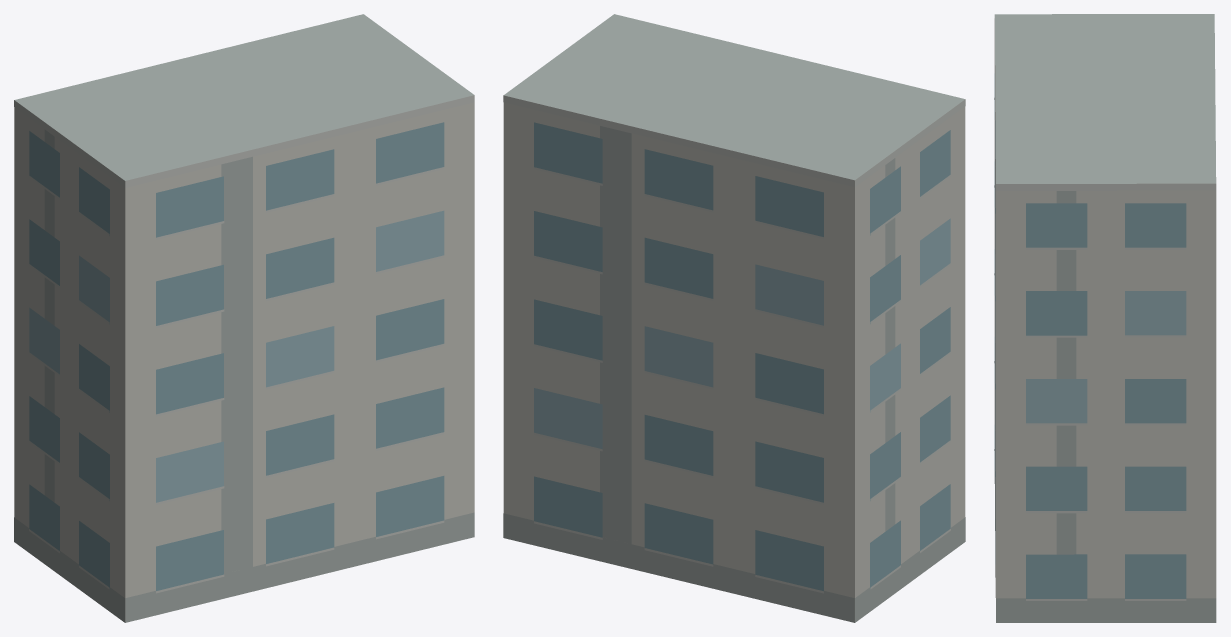
File: survey-upis-32728771.glb
3 renders of one model, left to right at view 1: azimuth 30°, elevation 25°; view 2: azimuth 150°, elevation 25°; view 3: azimuth 270°, elevation 25°, orthographic.
Parts seen in each view (by area): view 1: survey-upis-32728771.tmp; view 2: survey-upis-32728771.tmp; view 3: survey-upis-32728771.tmp.
Boxes of the visible parts, box(x1,y1,x2,y2) form: survey-upis-32728771.tmp: box(14, 14, 474, 622); survey-upis-32728771.tmp: box(503, 14, 965, 622); survey-upis-32728771.tmp: box(994, 14, 1216, 622).
Size of the model in its own units: 12.68 by 15.25 by 6.99.
